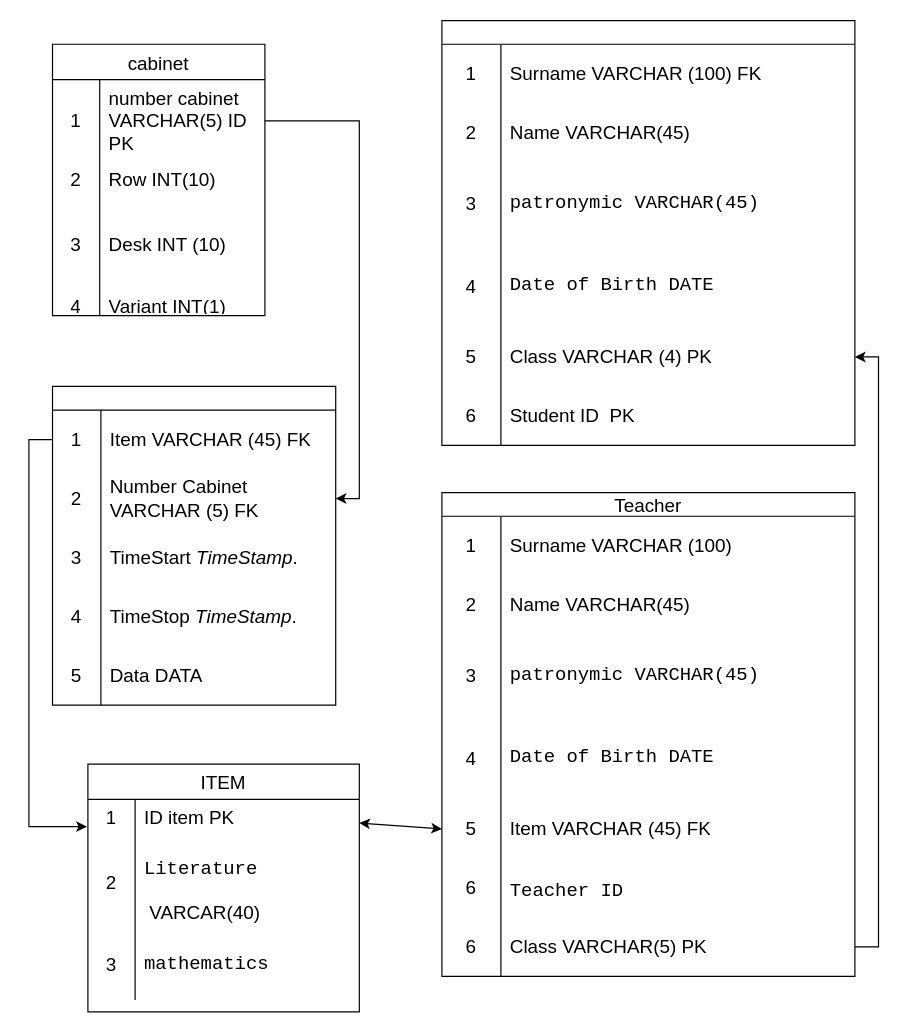
Some shapes in this 909 by 1033 pixel diagram are drawn without their labels. Here are the shapes that lost their labels. From the top down, the box of each, then its label:
(441, 19, 855, 445): Studens
(51, 385, 336, 705): Lesson
